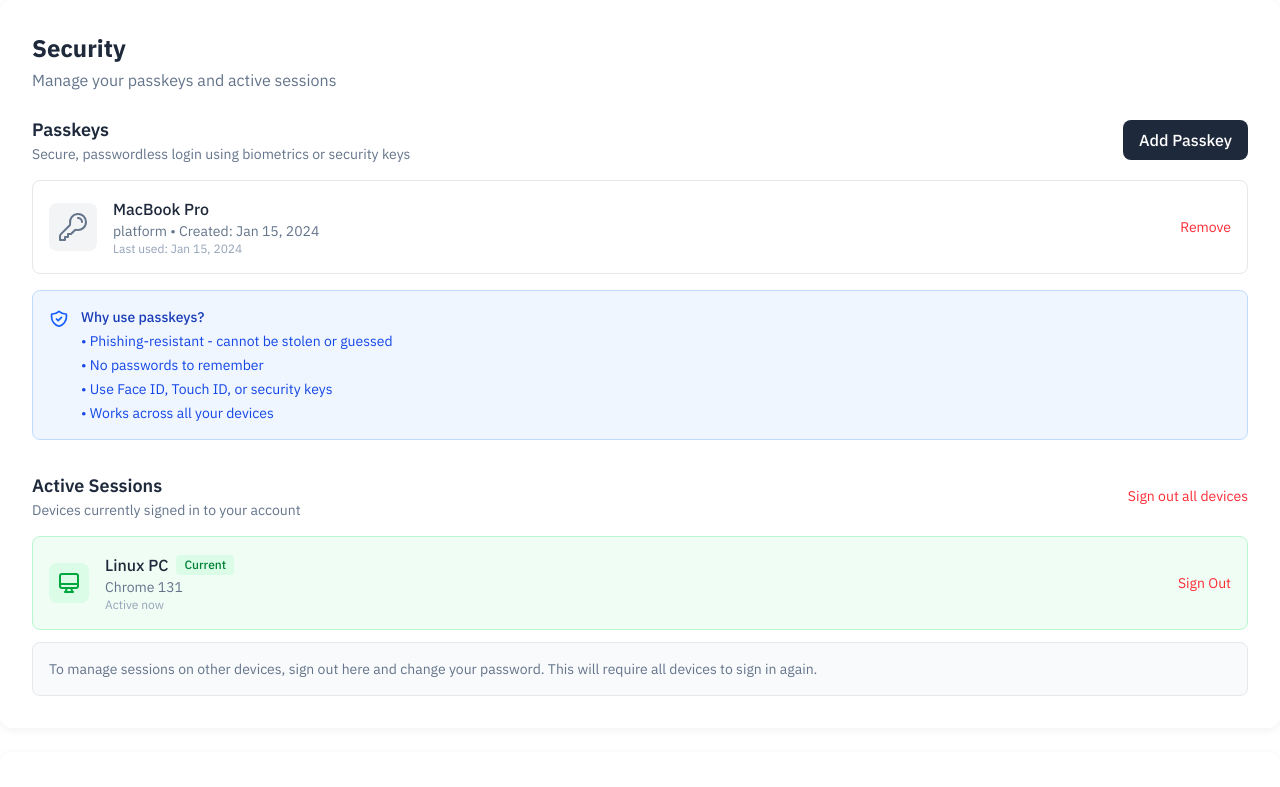
Scenario: SecurityPage › delete passkey interaction › should show confirm button when remove is clicked
Click the button "Remove" at coordinates (1206, 227), box [1180,217,1231,237]
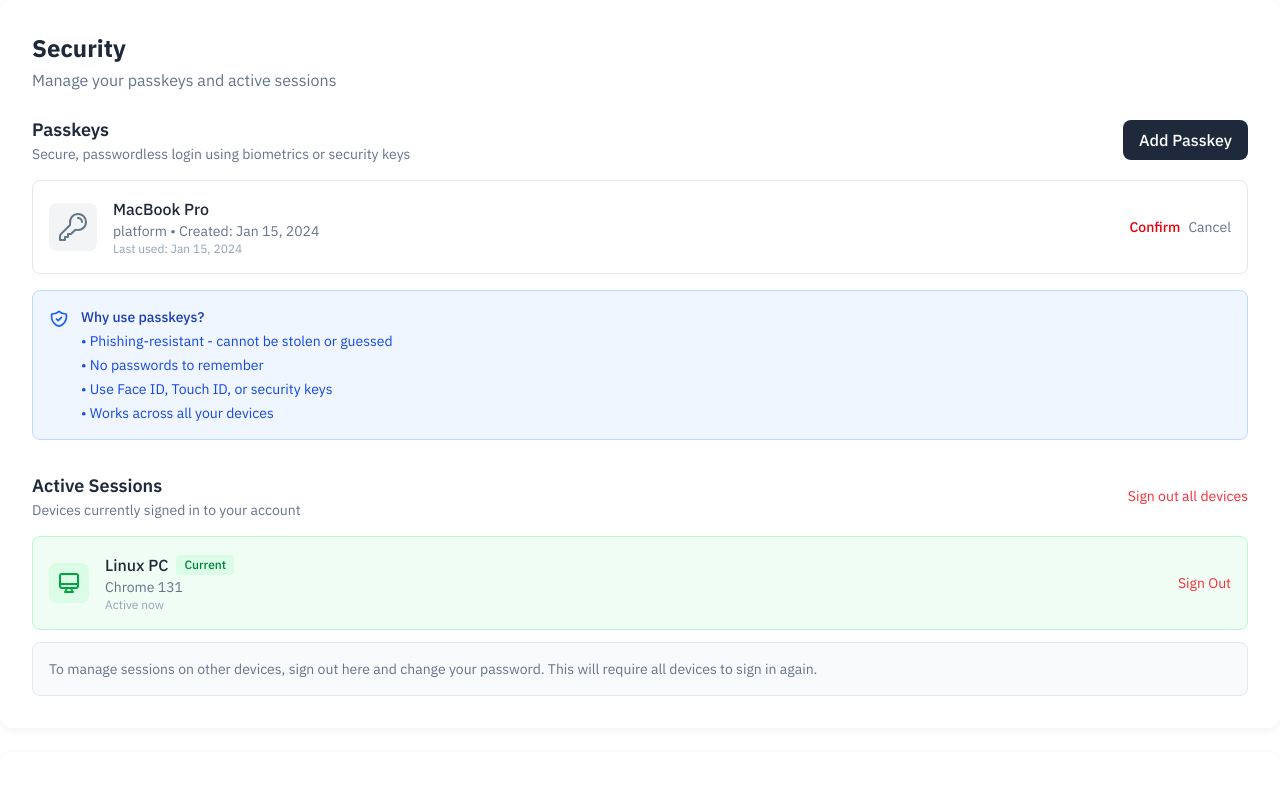
Expected: the button "Confirm" is shown, [1129,217,1180,237]
Expected: the button "Cancel" is shown, [1188,217,1231,237]
